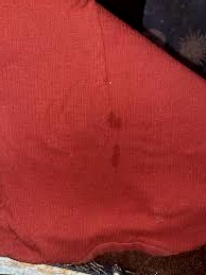oil: (102, 113, 130, 133), (113, 147, 126, 162)
